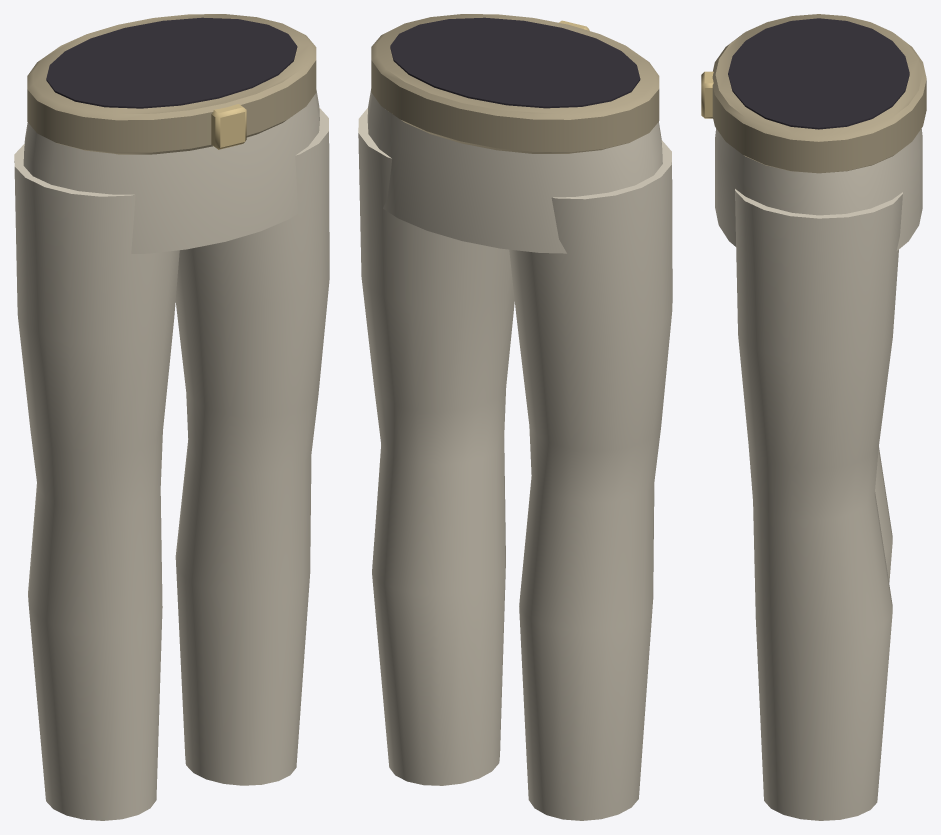
File: linen_trousers.glb
3 renders of one model, left to right at view 1: azimuth 30°, elevation 25°; view 2: azimuth 150°, elevation 25°; view 3: azimuth 270°, elevation 25°, orthographic. The views are drawn at different scales.
Parts seen in each view (by area): view 1: linen_trousers; view 2: linen_trousers; view 3: linen_trousers.
Boxes of the visible parts, bbox=[...] form: linen_trousers: bbox=[14, 14, 329, 820]; linen_trousers: bbox=[358, 14, 672, 820]; linen_trousers: bbox=[701, 14, 926, 820].
Size of the model in its own units: 0.3014 by 0.707 by 0.2084.
